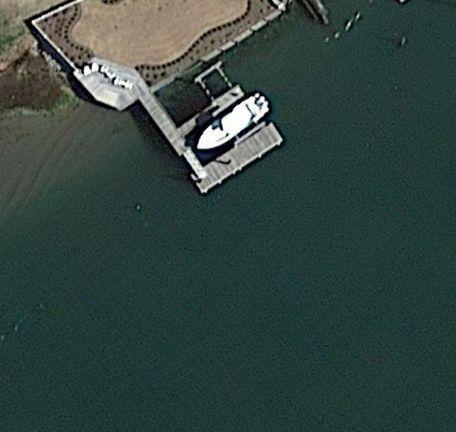Ships: (185, 91, 281, 157)
